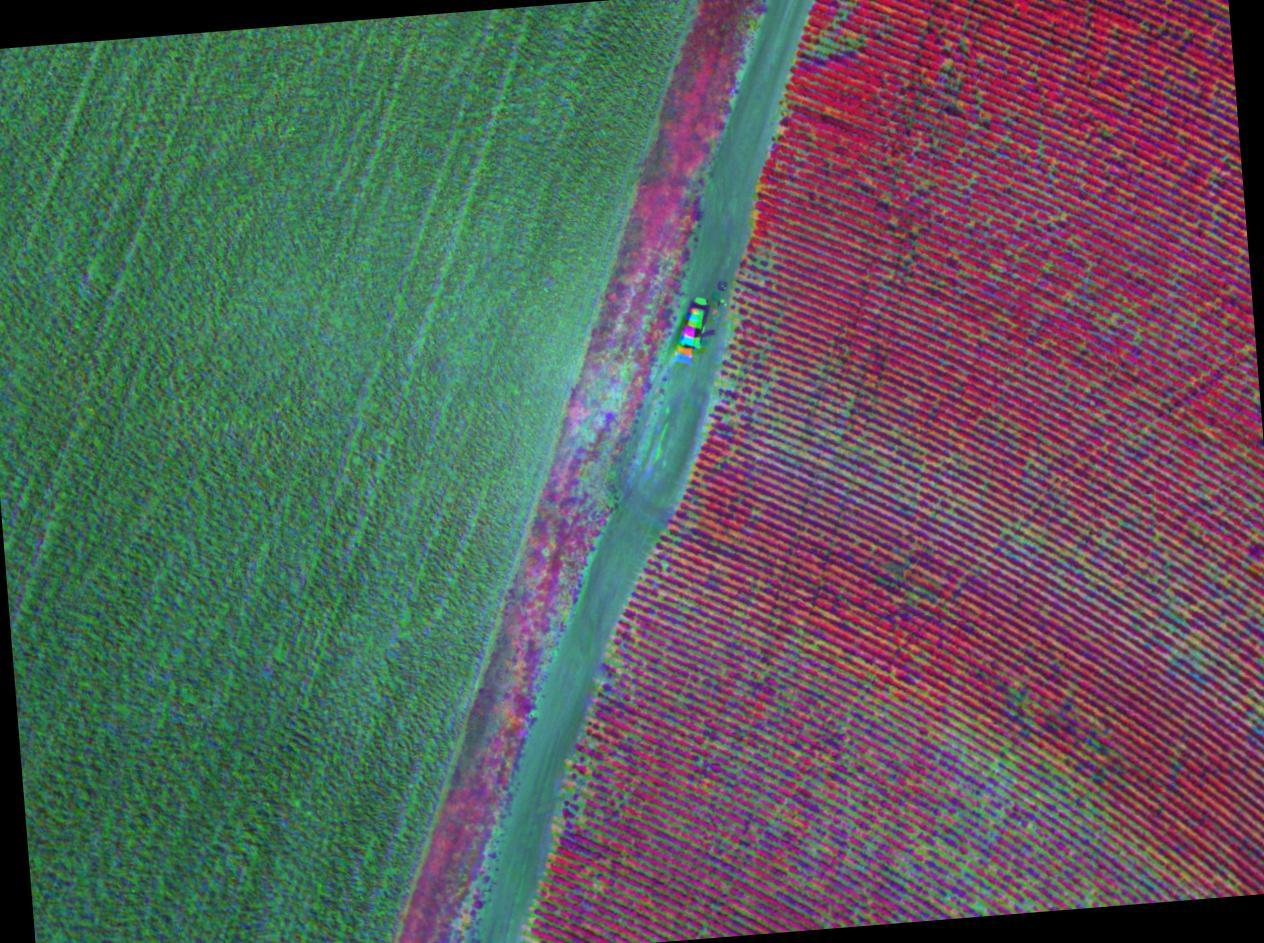dc: (991, 763, 997, 769), (812, 843, 816, 847), (753, 823, 757, 826)
